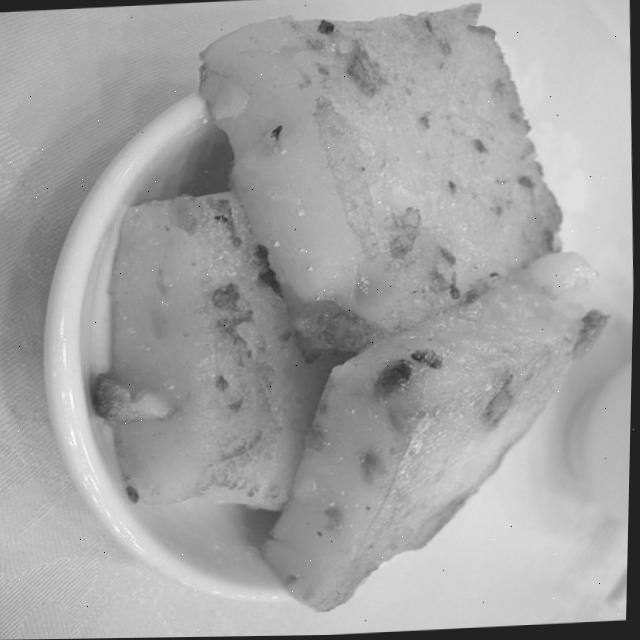蛋糕甜品: (43, 1, 618, 626)
